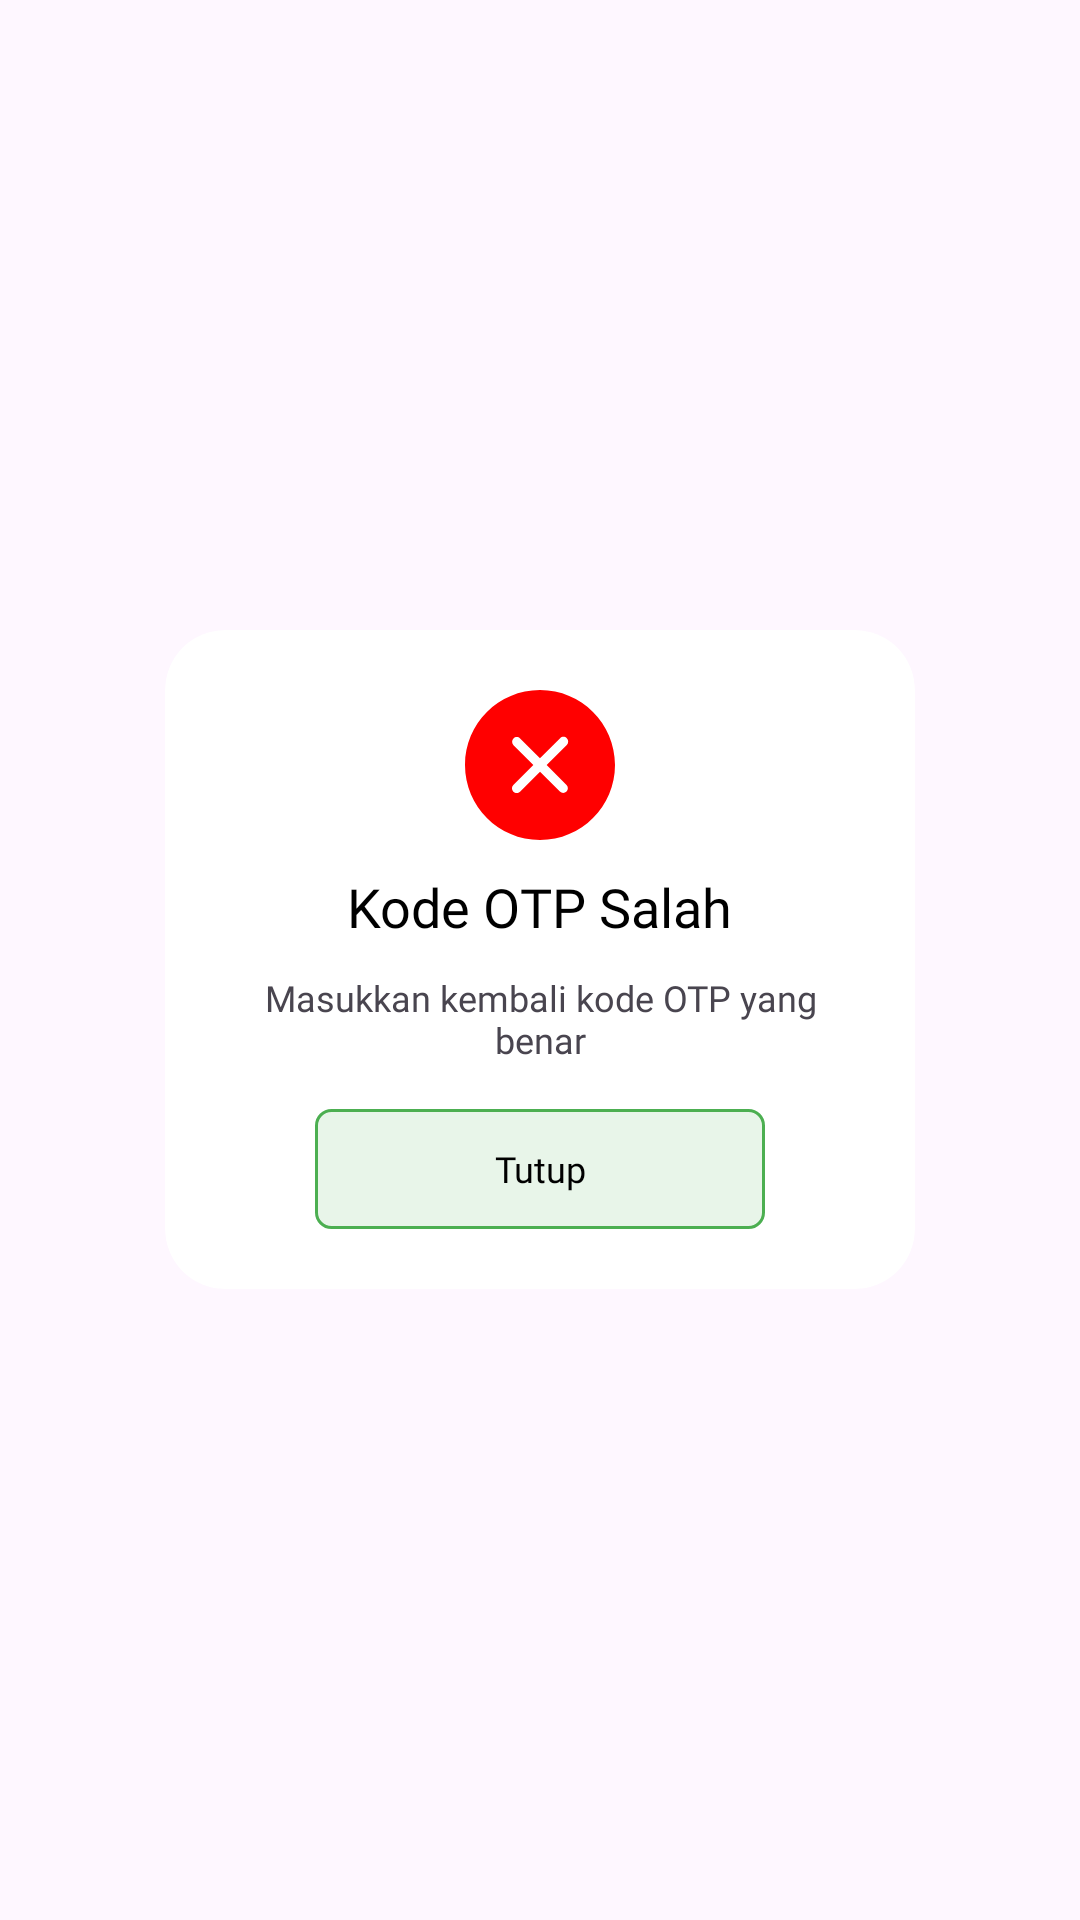

Where icons sit on this 1080px×1920px app screen, as box(x1, y1, x2, y2):
cross: box(465, 690, 615, 840)
